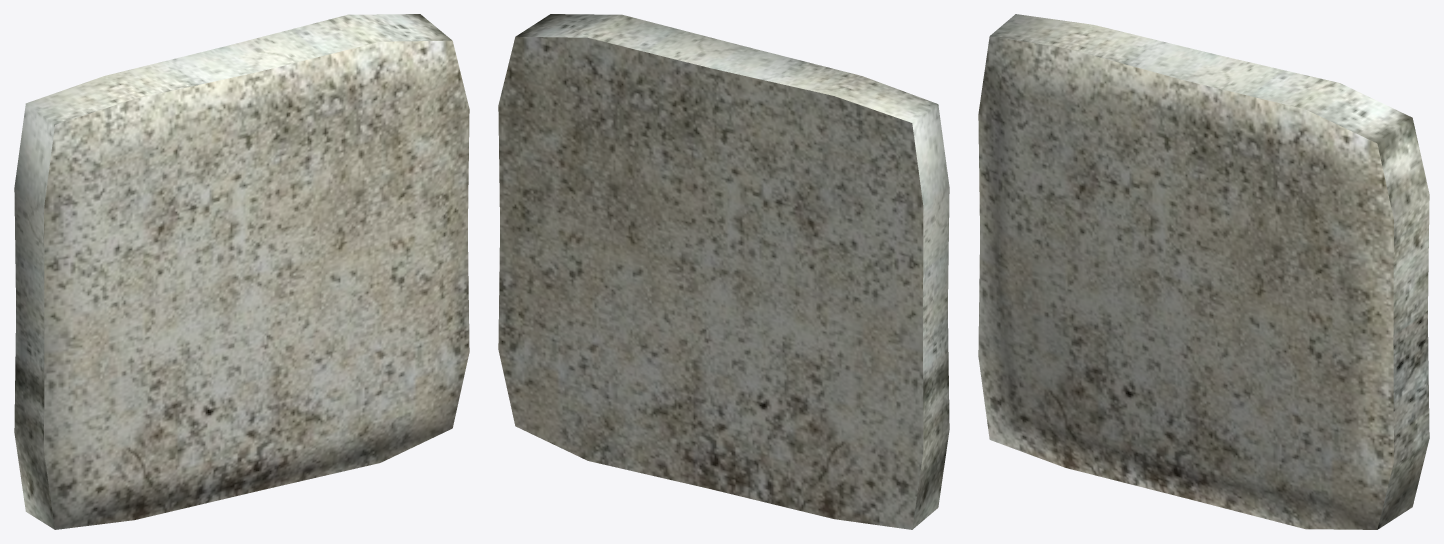
Rendered from furniture_duhoc_couch_cushion1_d1.glb.
The picture shows the model from 3 angles, left to right: view 1: azimuth 30°, elevation 25°; view 2: azimuth 150°, elevation 25°; view 3: azimuth 330°, elevation 25°; orthographic projection.
Bounding box in the file's own units: 26.85 × 25.66 × 4.18.
Materials: 1 (1 with a texture image).
